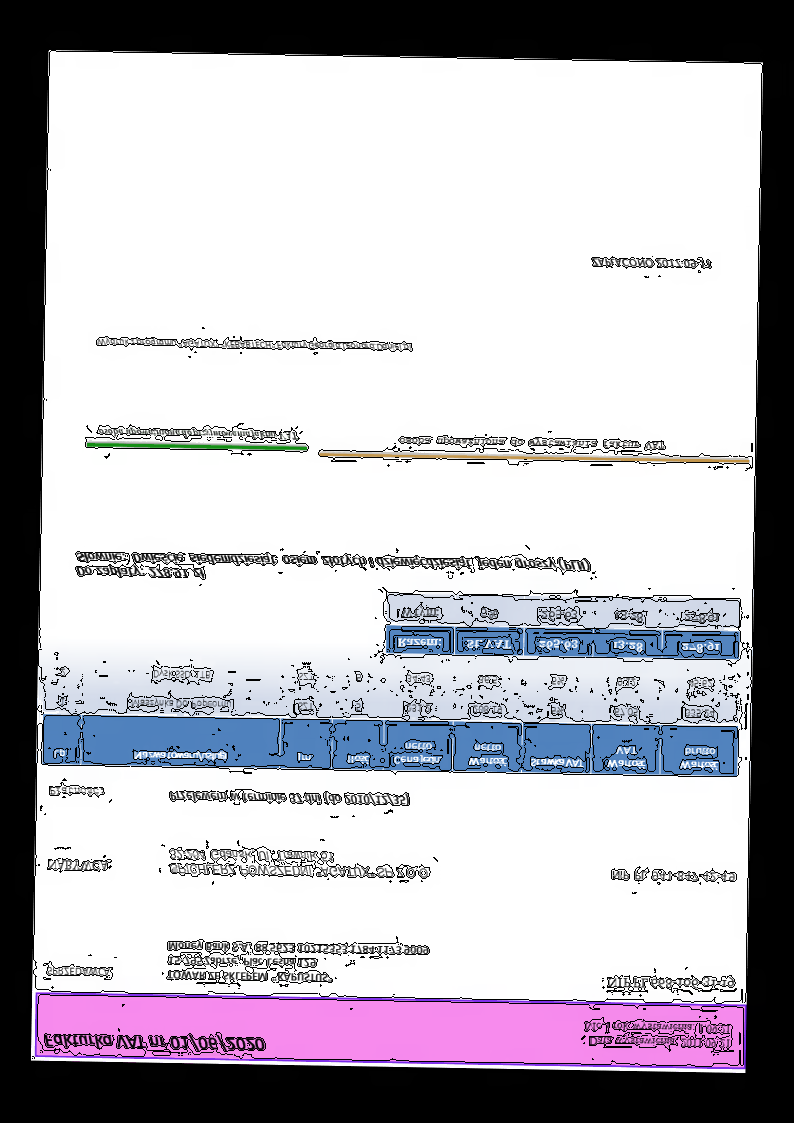Table: (41, 649, 741, 779), (385, 592, 742, 662)
TextBox: (74, 546, 592, 589), (164, 939, 429, 986), (166, 846, 434, 882), (96, 334, 413, 354), (42, 1029, 266, 1054), (580, 1018, 732, 1053), (167, 787, 410, 808), (397, 434, 666, 452), (97, 424, 299, 442), (604, 972, 735, 993), (610, 867, 737, 884), (589, 256, 713, 272), (45, 857, 114, 874), (44, 964, 114, 979), (47, 784, 105, 800)
